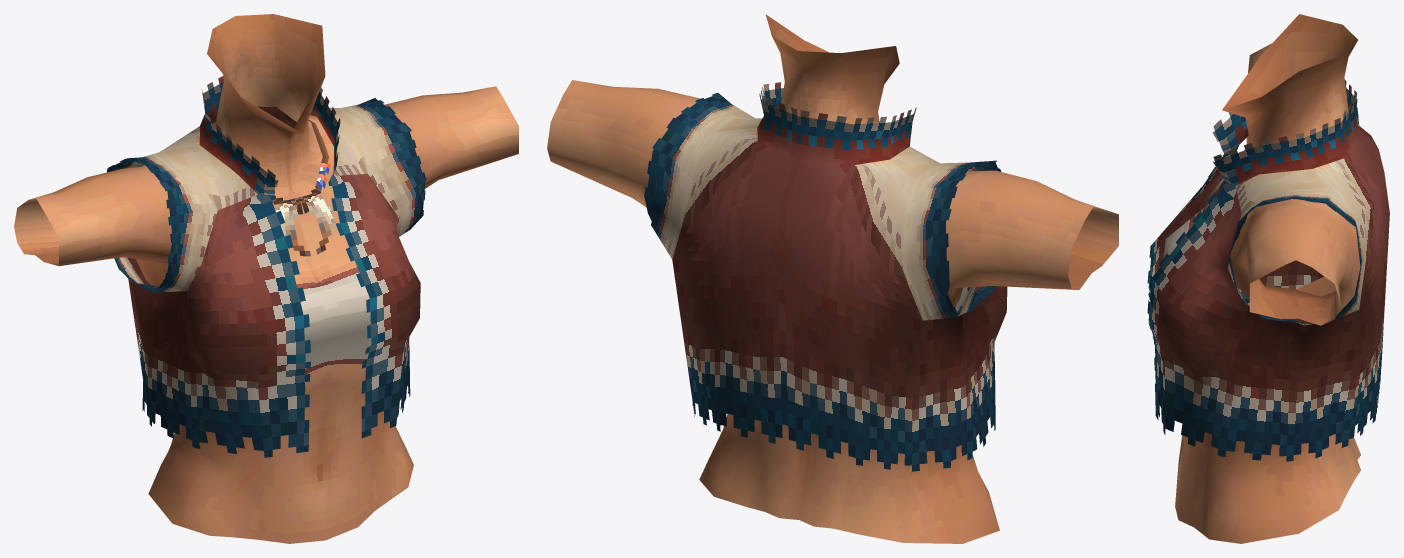
The model's file is f_body192.glb.
3 renders of one model, left to right at view 1: azimuth 30°, elevation 25°; view 2: azimuth 150°, elevation 25°; view 3: azimuth 270°, elevation 25°, orthographic. The views are drawn at different scales.
Bounding box in the file's own units: 61.81 × 58.88 × 27.76.
Materials: 1 (1 with a texture image).
